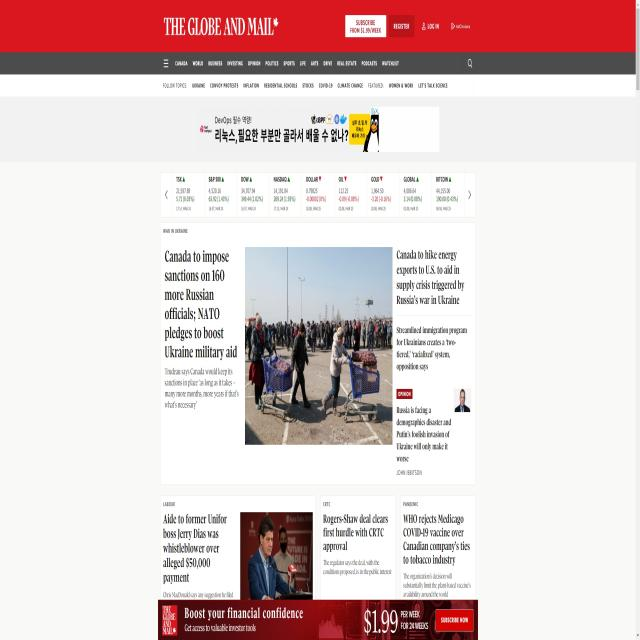menu-bar: (341, 11, 474, 43)
tab-bar: (160, 79, 454, 99), (168, 56, 406, 74)
